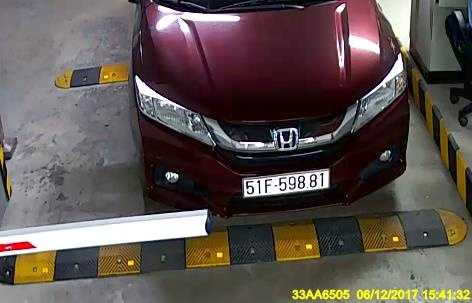plate: (237, 167, 333, 197)
